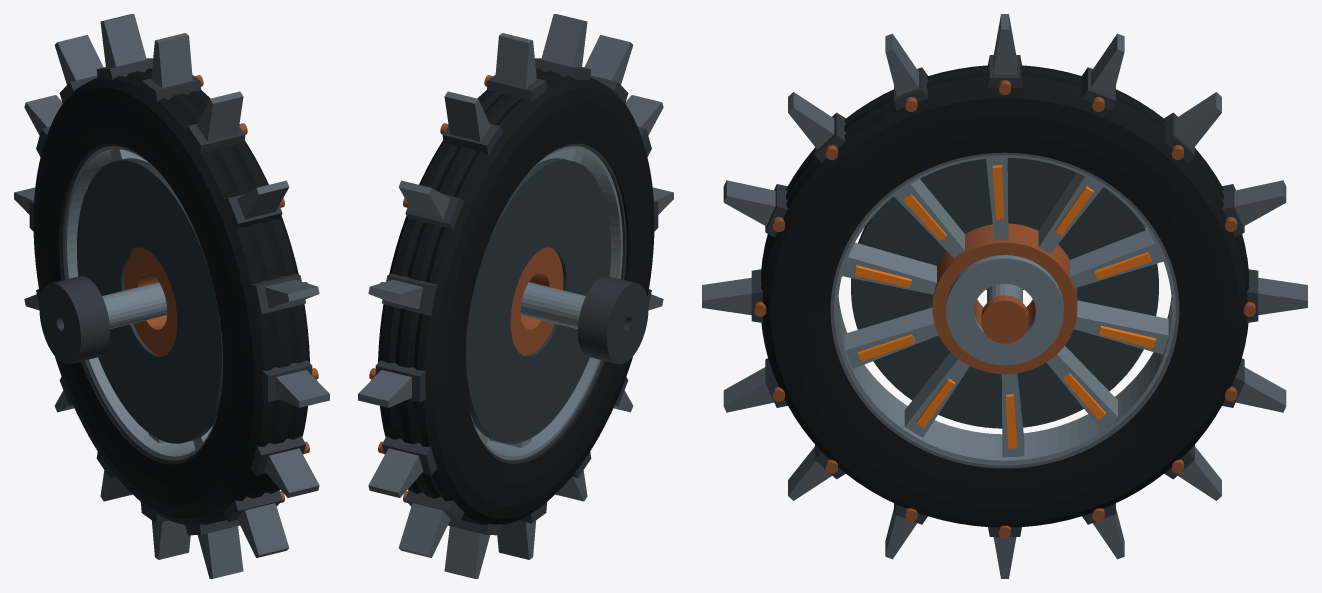
Rendered from M02-006_spiked_rubble_wheel.obj.
The picture shows the model from 3 angles, left to right: view 1: azimuth 30°, elevation 25°; view 2: azimuth 150°, elevation 25°; view 3: azimuth 270°, elevation 25°; orthographic projection. The views are drawn at different scales.
Parts seen in each view (by area): view 1: 01_Rubble_Tire, 07_Brake_Disc, Mount_Flange_STATIC, 02_Reinforced_Rim, 05_Hollow_Hub, Axle_Shaft_STATIC, Replaceable_Spike_06, Replaceable_Spike_00, Replaceable_Spike_15, Replaceable_Spike_05, Replaceable_Spike_07, Replaceable_Spike_01 (+17 smaller); view 2: 01_Rubble_Tire, 07_Brake_Disc, Mount_Flange_STATIC, 02_Reinforced_Rim, 05_Hollow_Hub, Axle_Shaft_STATIC, Replaceable_Spike_10, Replaceable_Spike_00, Replaceable_Spike_01, Replaceable_Spike_11, Replaceable_Spike_09, Replaceable_Spike_15 (+17 smaller); view 3: 01_Rubble_Tire, 07_Brake_Disc, 02_Reinforced_Rim, 06_Hub_Front_Collar, 05_Hollow_Hub, 04_Front_Bead_Lock, Spoke_07, Spoke_03, Spoke_02, Spoke_08, Spoke_06, Axle_Retainer_STATIC (+20 smaller).
Part boxes in pixels (<box>): 01_Rubble_Tire: <box>33,68,309,524</box>; 07_Brake_Disc: <box>77,158,222,443</box>; Mount_Flange_STATIC: <box>39,276,109,364</box>; 02_Reinforced_Rim: <box>65,146,217,460</box>; 05_Hollow_Hub: <box>124,247,177,355</box>; Axle_Shaft_STATIC: <box>102,282,167,328</box>; Replaceable_Spike_06: <box>237,503,289,557</box>; Replaceable_Spike_00: <box>151,33,192,88</box>; Replaceable_Spike_15: <box>100,14,146,67</box>; Replaceable_Spike_05: <box>264,448,319,497</box>; Replaceable_Spike_07: <box>197,526,243,578</box>; Replaceable_Spike_01: <box>197,91,243,141</box>; 01_Rubble_Tire: <box>378,68,654,524</box>; 07_Brake_Disc: <box>465,158,610,443</box>; Mount_Flange_STATIC: <box>578,276,648,364</box>; 02_Reinforced_Rim: <box>470,146,622,460</box>; 05_Hollow_Hub: <box>510,247,563,355</box>; Axle_Shaft_STATIC: <box>520,282,585,328</box>; Replaceable_Spike_10: <box>398,503,450,557</box>; Replaceable_Spike_00: <box>495,33,536,88</box>; Replaceable_Spike_01: <box>541,14,587,67</box>; Replaceable_Spike_11: <box>368,448,423,497</box>; Replaceable_Spike_09: <box>444,526,490,578</box>; Replaceable_Spike_15: <box>444,91,490,141</box>; 01_Rubble_Tire: <box>761,65,1248,527</box>; 07_Brake_Disc: <box>851,158,1158,428</box>; 02_Reinforced_Rim: <box>834,155,1175,464</box>; 06_Hub_Front_Collar: <box>946,255,1063,365</box>; 05_Hollow_Hub: <box>932,223,1077,373</box>; 04_Front_Bead_Lock: <box>830,152,1179,468</box>; Spoke_07: <box>1074,300,1168,354</box>; Spoke_03: <box>845,307,938,368</box>; Spoke_02: <box>842,242,936,294</box>; Spoke_08: <box>1070,230,1163,287</box>; Spoke_06: <box>1046,346,1117,429</box>; Axle_Retainer_STATIC: <box>981,295,1028,343</box>.
Size of the model in its own units: 0.35 by 1.07 by 1.07.
